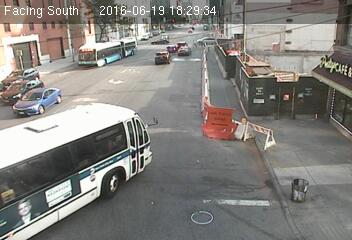neg: (9, 188, 42, 232)
